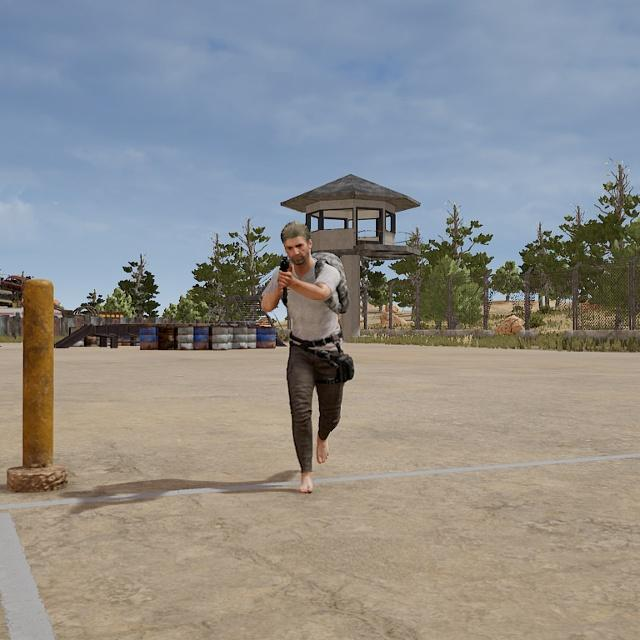head: (275, 218, 319, 273)
people: (257, 213, 369, 500)
